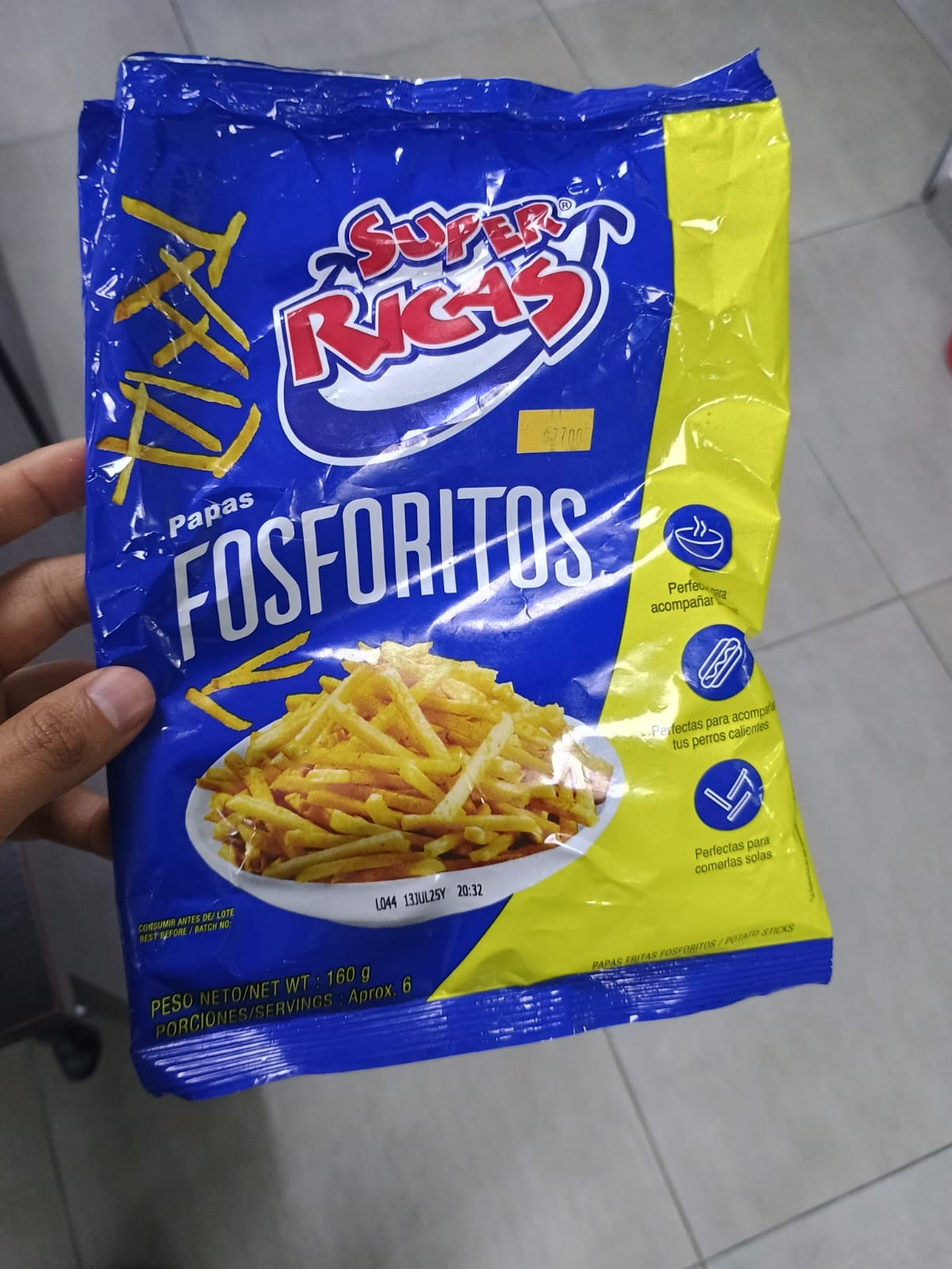Ordinario: (78, 51, 830, 1101)
